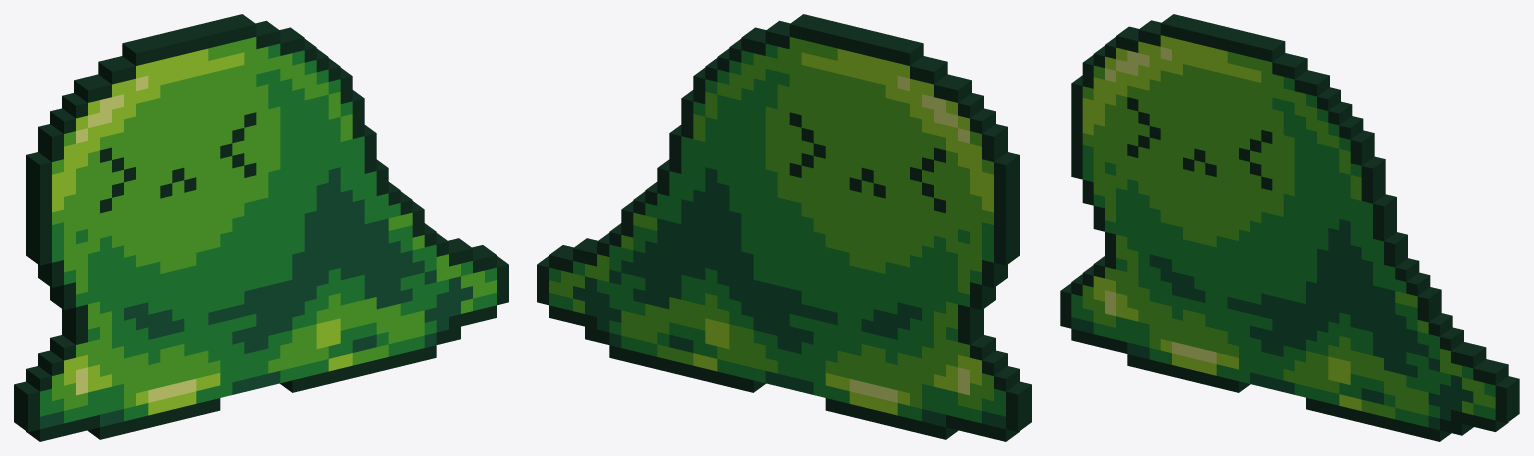
File: Slime_Attack_03.obj
The picture shows the model from 3 angles, left to right: view 1: azimuth 30°, elevation 25°; view 2: azimuth 150°, elevation 25°; view 3: azimuth 330°, elevation 25°; orthographic projection. The views are drawn at different scales.
Bounding box in the file's own units: 4 × 3 × 0.2.
1 material, 1 textured.
